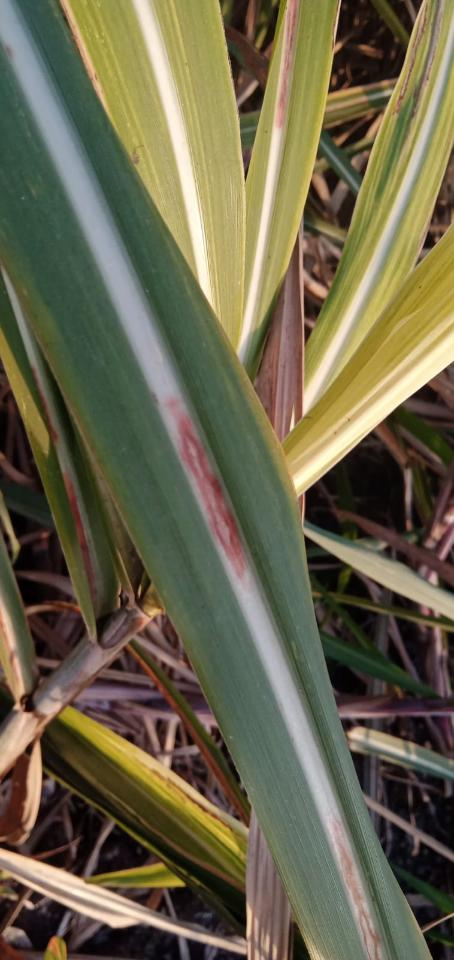RedRot: (161, 391, 251, 588), (331, 815, 384, 959)
